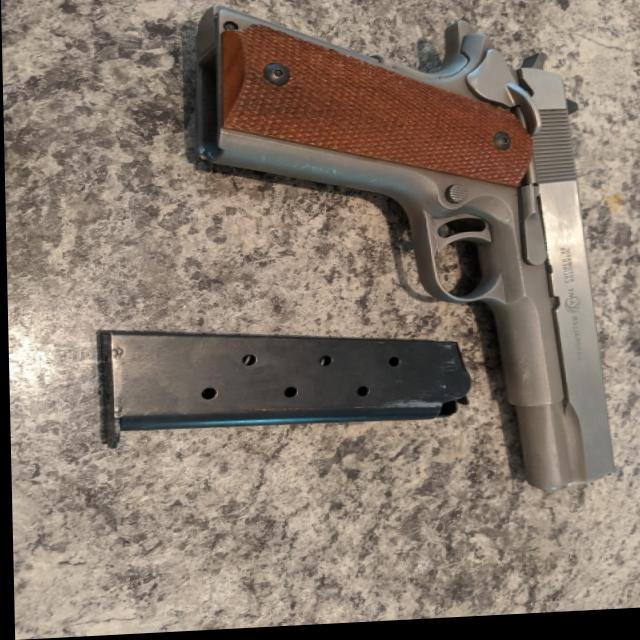handgun: (200, 0, 614, 509)
